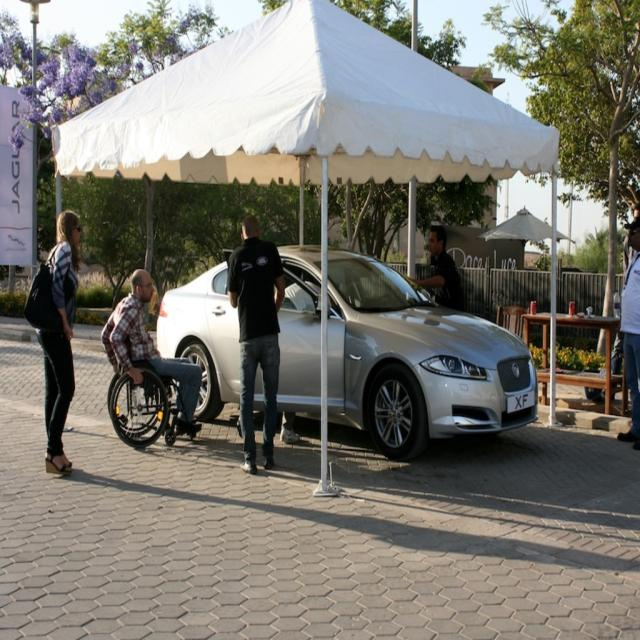car: (119, 239, 533, 466)
